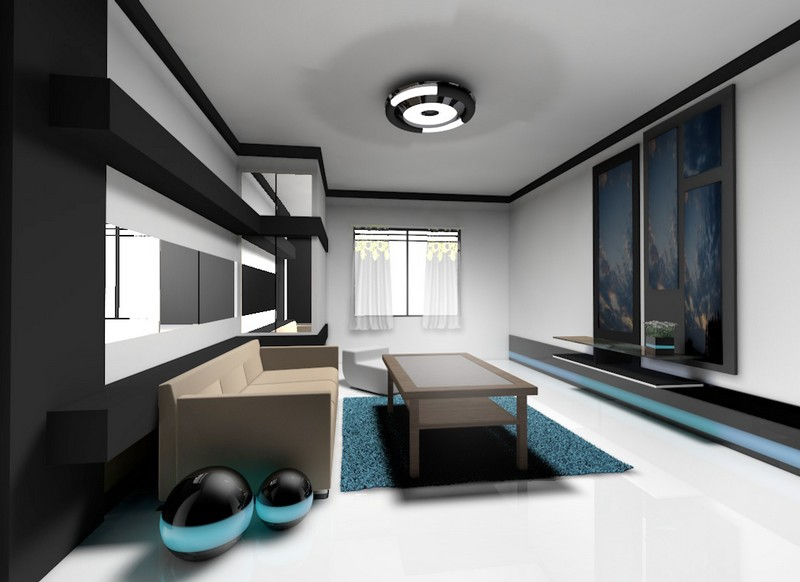sofa: (155, 339, 343, 501)
stool: (381, 348, 540, 475)
